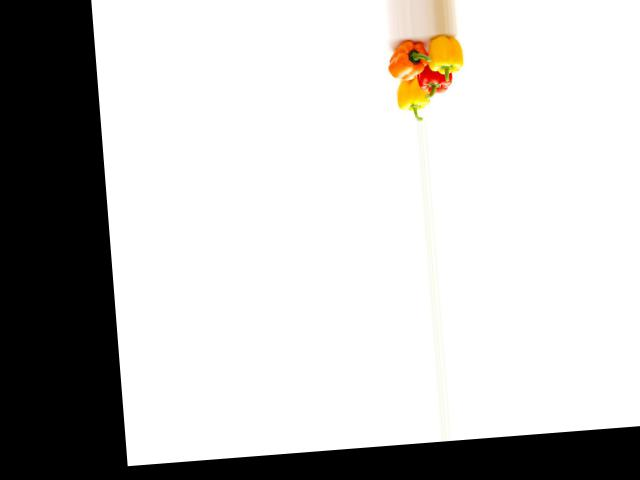bell_pepper: (416, 33, 466, 82)
